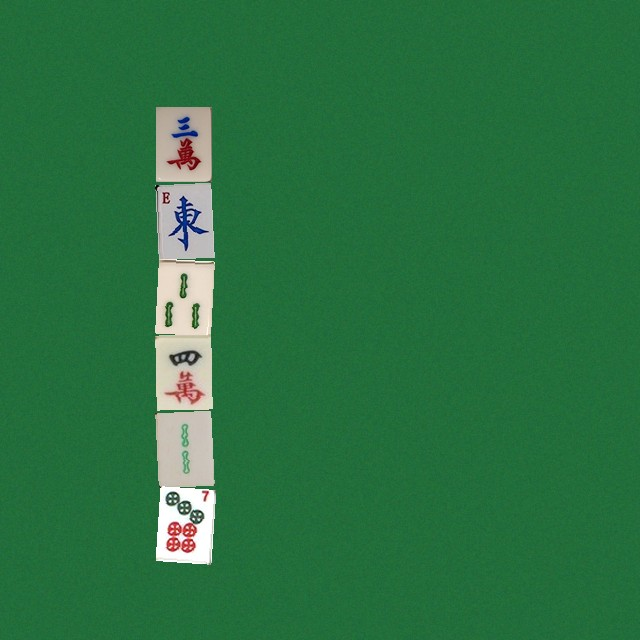tile: (155, 106, 211, 181), (155, 182, 211, 257), (155, 258, 211, 333), (155, 334, 211, 409), (155, 410, 211, 485), (155, 486, 211, 561)
